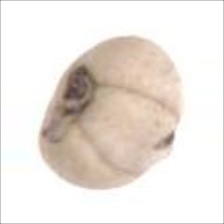L5: (83, 84, 181, 179), (45, 62, 102, 131)
L6: (38, 34, 184, 191)
